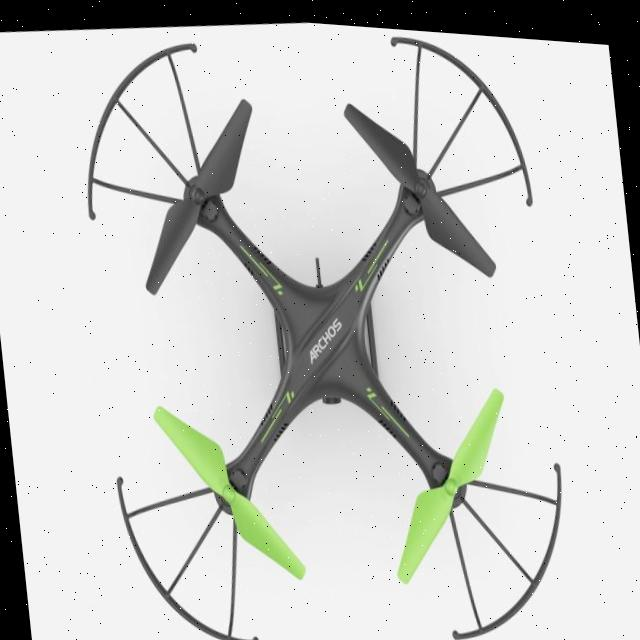drone: (38, 2, 620, 640)
